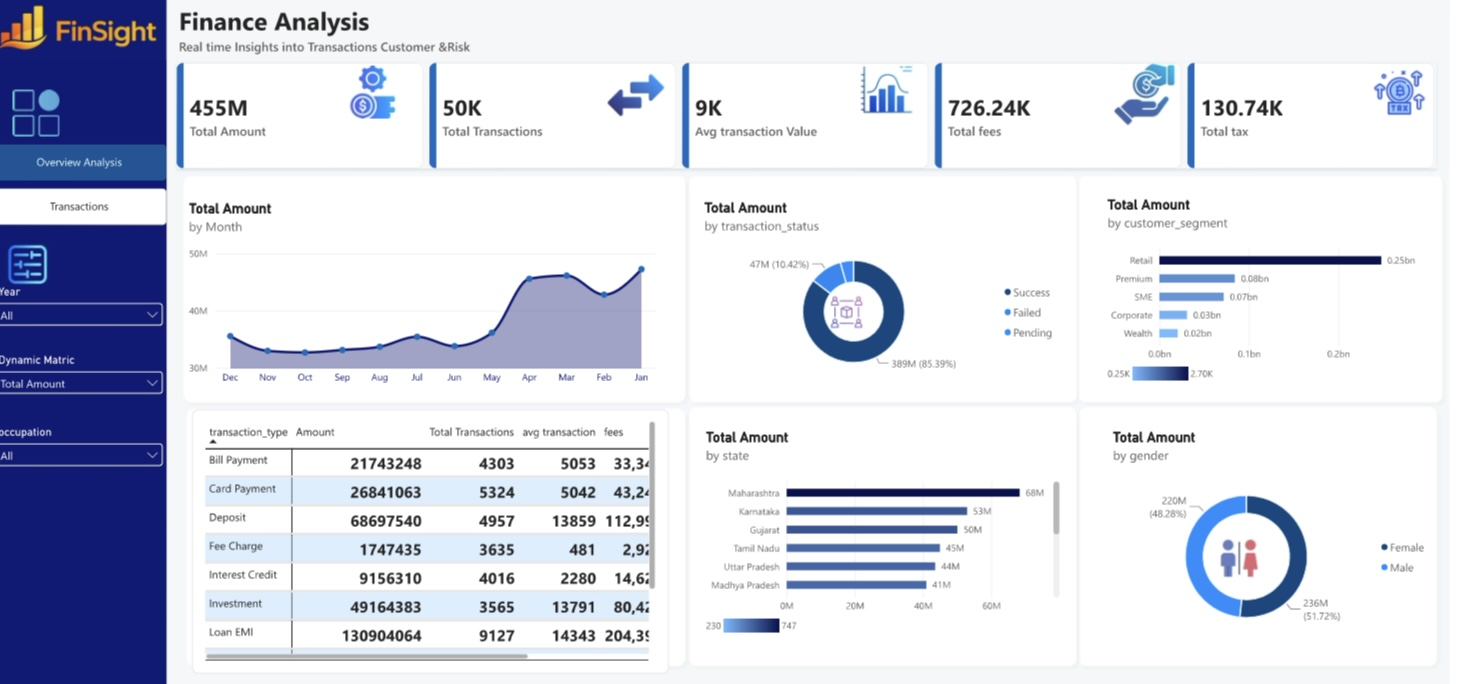

This screenshot's page, from the dashboard's own definition file:
{"tool":"powerbi","page":{"name":"Overview Analysis","canvas":[1880,900],"ordinal":0},"visuals":[{"type":"shape","box":[0,0,279.9,1053.9],"z":0},{"type":"shape","box":[225,0,1753.3,1053.3],"z":1000},{"type":"cardVisual","fields":{"Data":["Calender Table.Dahboard Title"]},"box":[225,0,416.7,90],"z":2000},{"type":"image","box":[0,0,225,90],"z":3000},{"type":"cardVisual","fields":{"Data":["Calender Table.Total Amount","Calender Table.Total Transactions","Calender Table.Avg transaction Value","Calender Table.Total fees","Calender Table.Total tax"]},"box":[238.3,90,1625,136.7],"z":4000},{"type":"slicer","fields":{"Values":["Calender Table.Year"]},"box":[0,376.7,225,115],"z":5000},{"type":"image","box":[433.3,93.3,113.3,68.3],"z":6000},{"type":"image","box":[1101.7,90,103.3,68.3],"z":7000},{"type":"image","box":[0,125,113.3,60],"z":8000},{"type":"image","box":[0,321.7,91.7,56.7],"z":9000},{"type":"image","box":[1766.7,90,96.7,76.7],"z":10000},{"type":"image","box":[1441.7,90,90,80],"z":11000},{"type":"image","box":[783.3,93.3,93.3,76.7],"z":12000},{"type":"slicer","fields":{"Values":["Dynamic Matric.Dynamic Matric"]},"box":[0,465,225,83.3],"z":13000},{"type":"shape","box":[238.3,226.7,665,310],"z":14000},{"type":"areaChart","fields":{"Category":["Calender Table.Month"],"Y":["Calender Table.Total Amount"]},"box":[238.3,253.3,635,271.7],"z":15000},{"type":"shape","box":[890,226.7,518.3,310],"z":16000},{"type":"donutChart","fields":{"Category":["finance_transactions.transaction_status"],"Y":["Calender Table.Total Amount"]},"box":[903.3,251.7,490,260],"z":17000},{"type":"shape","box":[1393.3,226.7,486.7,310],"z":18000},{"type":"shape","box":[241.7,526.7,661.7,351.7],"z":19000},{"type":"barChart","fields":{"Category":["customers.customer_segment"],"Y":["Calender Table.Total Amount"]},"box":[1423.3,248.3,443.3,275],"z":20000},{"type":"pivotTable","fields":{"Rows":["finance_transactions.transaction_type"],"Values":["Calender Table.Total Amount","Calender Table.Total Transactions","Calender Table.Avg transaction Value","Calender Table.Total fees","Calender Table.Total tax"]},"box":[258.3,536.7,615,341.7],"z":21000},{"type":"shape","box":[1393.3,525,480,353.3],"z":22000},{"type":"donutChart","fields":{"Category":["customers.gender"],"Y":["Calender Table.Total Amount"]},"box":[1430,548.3,443.3,300],"z":23000},{"type":"image","box":[1076.7,390,50,43.3],"z":24000},{"type":"image","box":[1578.3,701.7,60,55],"z":25000},{"type":"shape","box":[890,525,518.3,353.3],"z":26000},{"type":"barChart","fields":{"Category":["customers.state"],"Y":["Calender Table.Total Amount"]},"box":[905,548.3,488.3,300],"z":27000},{"type":"slicer","fields":{"Values":["customers.occupation"]},"box":[0,558.3,225,115],"z":28000},{"type":"pageNavigator","box":[0,195,225,105],"z":29000}]}

Visuals, with their boxes on the page's 1880x900 design canvas (x1, y1, x2, y2). These are canvas units, not pixel positions in the 1466x684 screenshot, which may show the page scaled, cropped or inside an application window:
shape: box(0, 0, 280, 1054)
shape: box(225, 0, 1978, 1053)
cardVisual - Calender Table.Dahboard Title: box(225, 0, 642, 90)
image: box(0, 0, 225, 90)
cardVisual - Calender Table.Total Amount x Calender Table.Total Transactions: box(238, 90, 1863, 227)
slicer - Calender Table.Year: box(0, 377, 225, 492)
image: box(433, 93, 547, 162)
image: box(1102, 90, 1205, 158)
image: box(0, 125, 113, 185)
image: box(0, 322, 92, 378)
image: box(1767, 90, 1863, 167)
image: box(1442, 90, 1532, 170)
image: box(783, 93, 877, 170)
slicer - Dynamic Matric.Dynamic Matric: box(0, 465, 225, 548)
shape: box(238, 227, 903, 537)
areaChart - Calender Table.Month x Calender Table.Total Amount: box(238, 253, 873, 525)
shape: box(890, 227, 1408, 537)
donutChart - finance_transactions.transaction_status x Calender Table.Total Amount: box(903, 252, 1393, 512)
shape: box(1393, 227, 1880, 537)
shape: box(242, 527, 903, 878)
barChart - customers.customer_segment x Calender Table.Total Amount: box(1423, 248, 1867, 523)
pivotTable - finance_transactions.transaction_type x Calender Table.Total Amount: box(258, 537, 873, 878)
shape: box(1393, 525, 1873, 878)
donutChart - customers.gender x Calender Table.Total Amount: box(1430, 548, 1873, 848)
image: box(1077, 390, 1127, 433)
image: box(1578, 702, 1638, 757)
shape: box(890, 525, 1408, 878)
barChart - customers.state x Calender Table.Total Amount: box(905, 548, 1393, 848)
slicer - customers.occupation: box(0, 558, 225, 673)
pageNavigator: box(0, 195, 225, 300)
